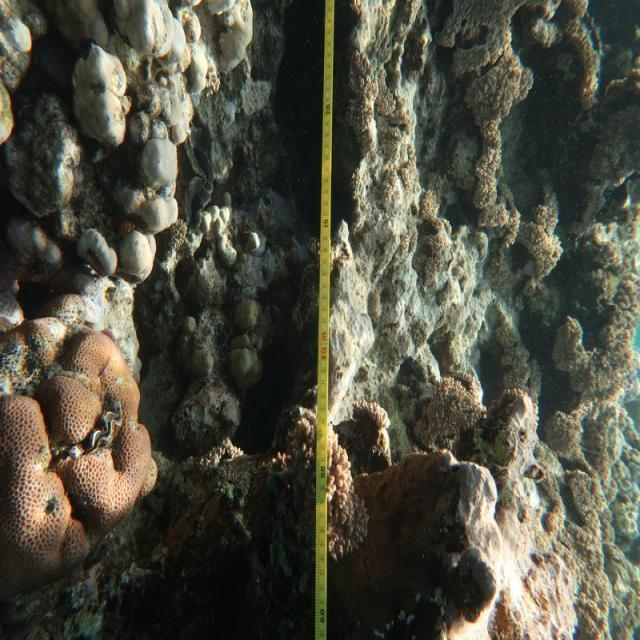Healthy Coral: (0, 318, 168, 567)
